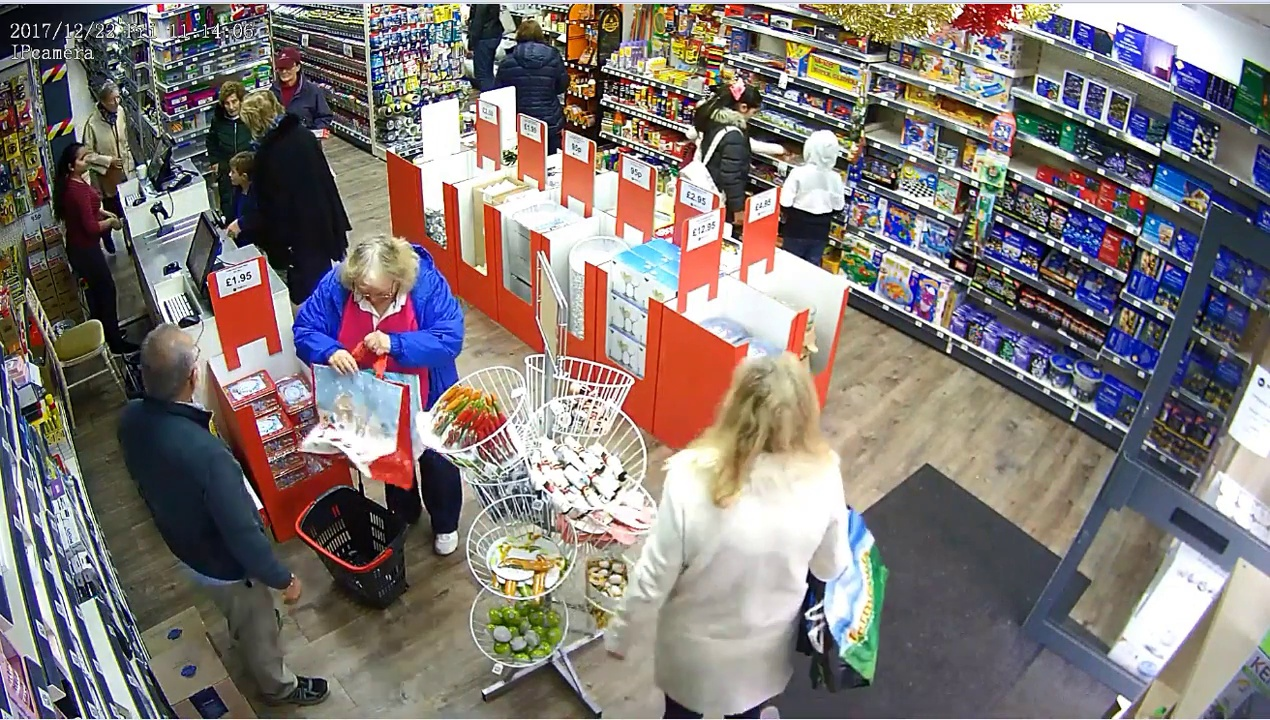face: (98, 89, 123, 114), (218, 92, 240, 117), (69, 150, 91, 175), (222, 161, 241, 187)
